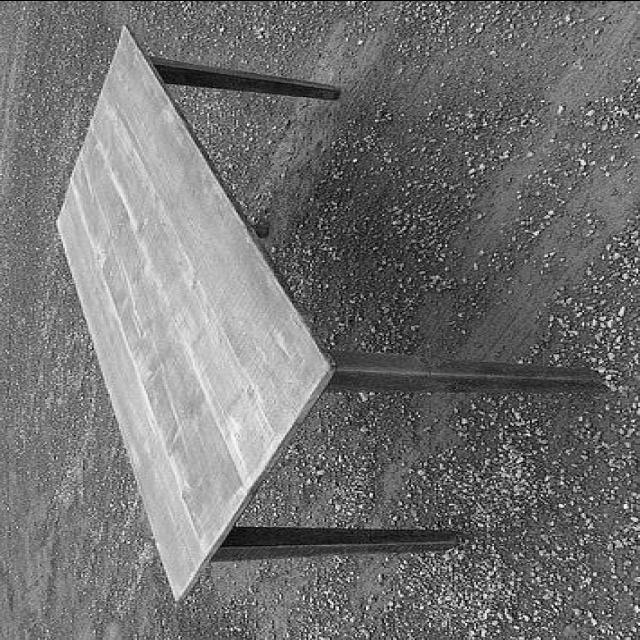table: (54, 19, 604, 604)
